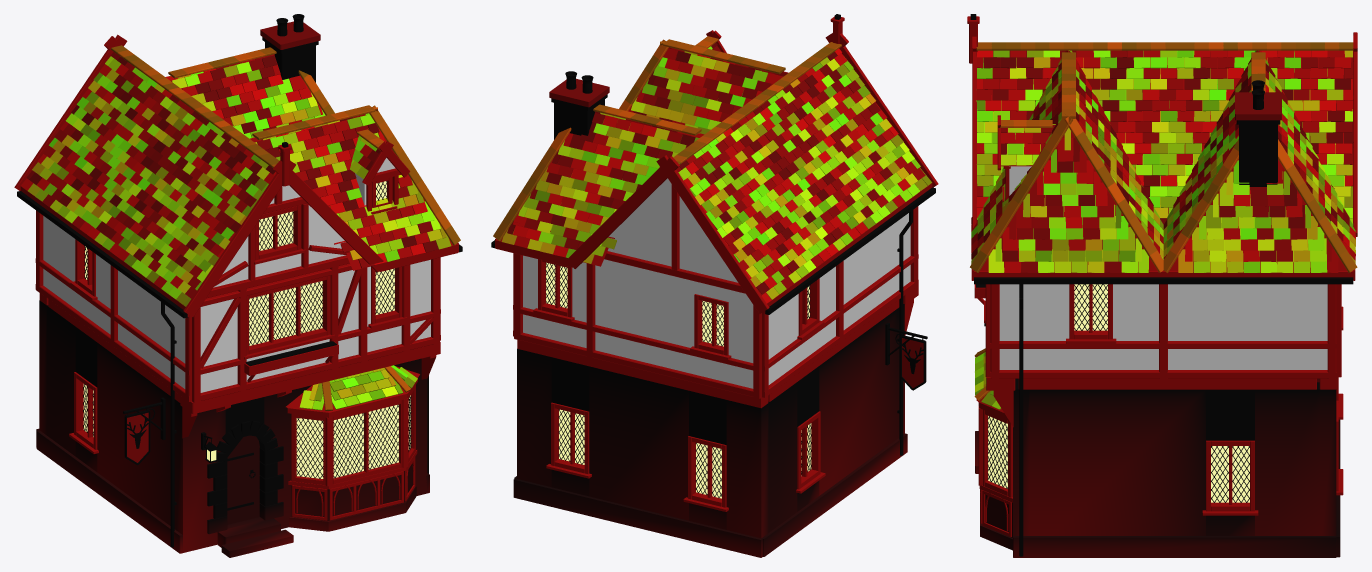
Rendered from SilverbrookTownhouse1.fbx.
3 views of the same model, side by side, from view 1: azimuth 30°, elevation 25°; view 2: azimuth 150°, elevation 25°; view 3: azimuth 270°, elevation 25° (orthographic). The views are drawn at different scales.
Visible parts, largest first — view 1: SM_SBTownhouse1_Roof, SM_SBTownhouse1_Timber, SM_SBTownhouse1_Masonry, SM_SBTownhouse1_Details, SM_SBTownhouse1_Plaster; view 2: SM_SBTownhouse1_Roof, SM_SBTownhouse1_Masonry, SM_SBTownhouse1_Timber, SM_SBTownhouse1_Plaster, SM_SBTownhouse1_Details; view 3: SM_SBTownhouse1_Roof, SM_SBTownhouse1_Masonry, SM_SBTownhouse1_Timber, SM_SBTownhouse1_Plaster, SM_SBTownhouse1_Details.
Boxes of the visible parts, x1,y1,x2,y2 form: SM_SBTownhouse1_Roof: [21, 45, 460, 412]; SM_SBTownhouse1_Timber: [14, 34, 458, 520]; SM_SBTownhouse1_Masonry: [36, 21, 429, 557]; SM_SBTownhouse1_Details: [17, 14, 462, 547]; SM_SBTownhouse1_Plaster: [43, 158, 430, 392]; SM_SBTownhouse1_Roof: [493, 36, 931, 303]; SM_SBTownhouse1_Masonry: [513, 78, 907, 557]; SM_SBTownhouse1_Timber: [495, 16, 938, 511]; SM_SBTownhouse1_Plaster: [523, 178, 910, 388]; SM_SBTownhouse1_Details: [491, 14, 935, 498]; SM_SBTownhouse1_Roof: [970, 42, 1357, 412]; SM_SBTownhouse1_Masonry: [975, 92, 1340, 557]; SM_SBTownhouse1_Timber: [967, 16, 1357, 537]; SM_SBTownhouse1_Plaster: [999, 161, 1327, 369]; SM_SBTownhouse1_Details: [970, 14, 1353, 556].
Size of the model in its own units: 708 by 897 by 700.
